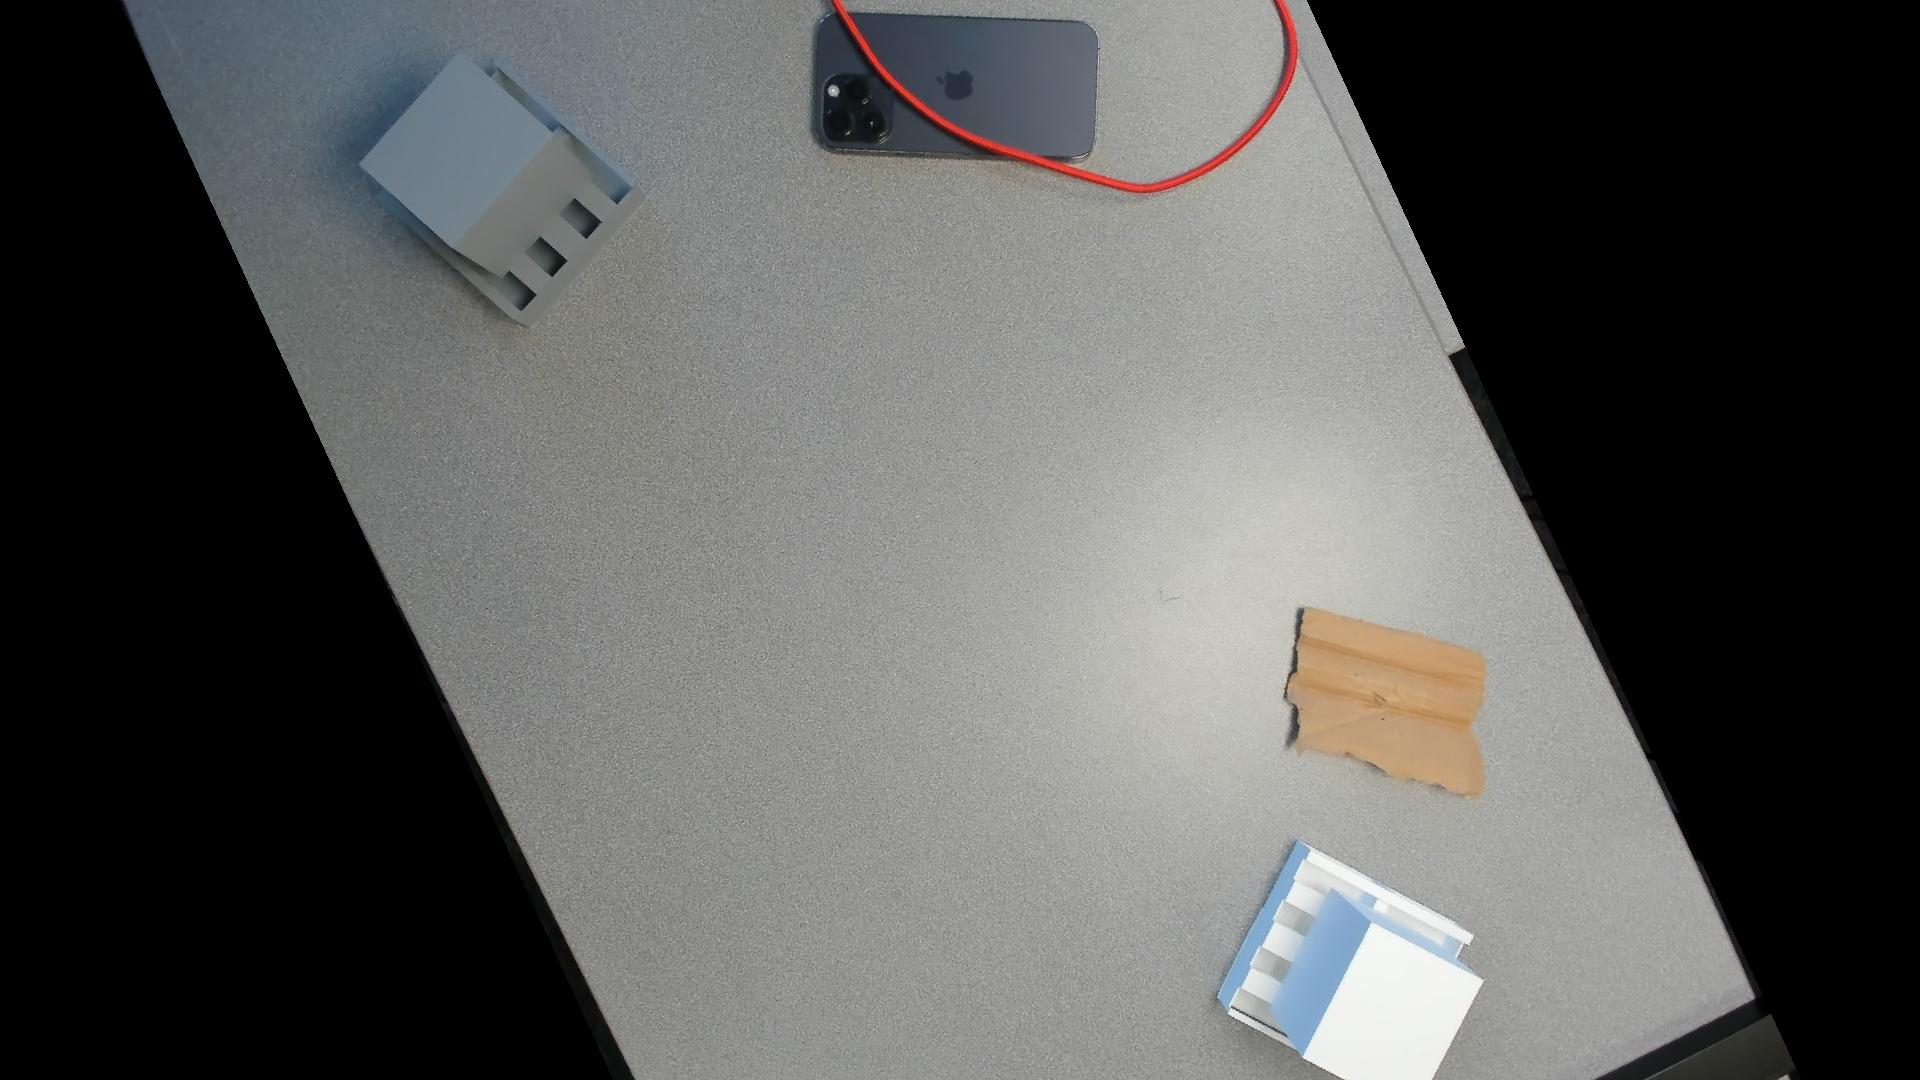grey pallet: (349, 37, 662, 345)
white pallet: (1209, 829, 1489, 1080)
